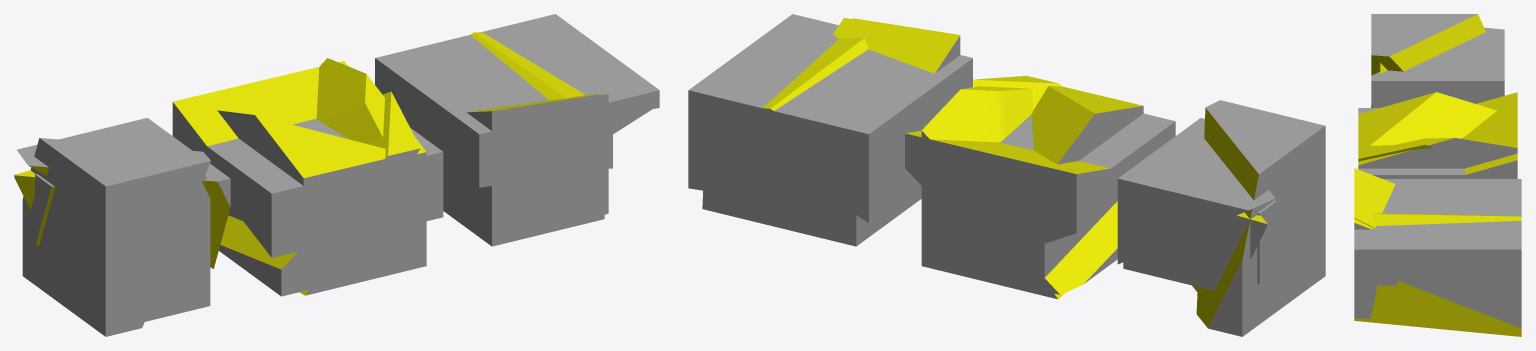
Rendered from Rubble.fbx.
3 views of the same model, side by side, from view 1: azimuth 30°, elevation 25°; view 2: azimuth 150°, elevation 25°; view 3: azimuth 270°, elevation 25° (orthographic). The views are drawn at different scales.
Parts seen in each view (by area): view 1: shard14, shard6, shard7, shard5, shard2, shard1, shard4, shard3, shard12, shard13, shard9, shard8 (+3 smaller); view 2: shard6, shard14, shard8, shard3, shard5, shard13, shard7, shard4, shard2, shard15, shard1, shard10 (+2 smaller); view 3: shard6, shard8, shard13, shard7, shard4, shard14, shard5, shard3, shard2, shard9, shard1, shard10 (+1 smaller).
Part boxes in pixels (x1=…): shard14: x1=22, y1=138, x2=210, y2=336; shard6: x1=375, y1=14, x2=659, y2=189; shard7: x1=443, y1=94, x2=604, y2=246; shard5: x1=299, y1=58, x2=426, y2=295; shard2: x1=207, y1=118, x2=443, y2=257; shard1: x1=219, y1=91, x2=420, y2=296; shard4: x1=217, y1=110, x2=399, y2=265; shard3: x1=172, y1=61, x2=347, y2=166; shard12: x1=145, y1=156, x2=210, y2=321; shard13: x1=17, y1=118, x2=230, y2=268; shard9: x1=535, y1=94, x2=608, y2=218; shard8: x1=405, y1=32, x2=659, y2=138; shard6: x1=688, y1=14, x2=972, y2=222; shard14: x1=1196, y1=100, x2=1325, y2=336; shard8: x1=688, y1=37, x2=868, y2=216; shard3: x1=905, y1=130, x2=1126, y2=260; shard5: x1=921, y1=86, x2=1064, y2=299; shard13: x1=1117, y1=118, x2=1274, y2=264; shard7: x1=702, y1=18, x2=960, y2=246; shard4: x1=960, y1=86, x2=1143, y2=292; shard2: x1=905, y1=113, x2=1175, y2=201; shard15: x1=1123, y1=212, x2=1267, y2=290; shard1: x1=973, y1=75, x2=1117, y2=294; shard10: x1=735, y1=125, x2=815, y2=175; shard6: x1=1354, y1=179, x2=1521, y2=263; shard8: x1=1354, y1=213, x2=1521, y2=328; shard13: x1=1371, y1=27, x2=1504, y2=107; shard7: x1=1354, y1=168, x2=1521, y2=336; shard4: x1=1358, y1=92, x2=1496, y2=145; shard14: x1=1371, y1=14, x2=1485, y2=107; shard5: x1=1358, y1=138, x2=1517, y2=168; shard3: x1=1463, y1=92, x2=1517, y2=174; shard2: x1=1358, y1=108, x2=1517, y2=178; shard9: x1=1354, y1=218, x2=1377, y2=318; shard1: x1=1358, y1=144, x2=1433, y2=161; shard10: x1=1354, y1=264, x2=1397, y2=285.
Bounding box in the file's own units: 71.89 × 18.46 × 23.17.
